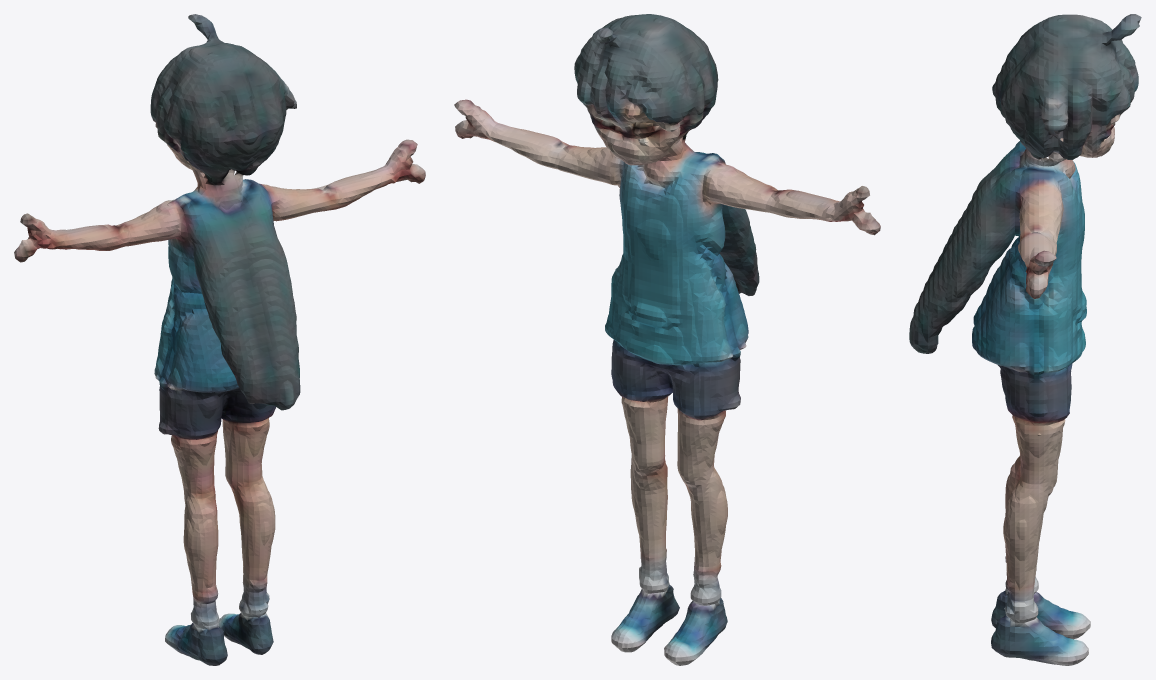
Rendered from mc_raw_v2.glb.
The picture shows the model from 3 angles, left to right: view 1: azimuth 30°, elevation 25°; view 2: azimuth 150°, elevation 25°; view 3: azimuth 270°, elevation 25°; orthographic projection. The views are drawn at different scales.
Parts seen in each view (by area): view 1: world; view 2: world; view 3: world.
Part boxes in pixels (left/top/right/bottom): world: left=14, top=14, right=425, bottom=665; world: left=454, top=14, right=880, bottom=665; world: left=909, top=14, right=1141, bottom=665.
Bounding box in the file's own units: 0.7011 × 1.01 × 0.3282.
